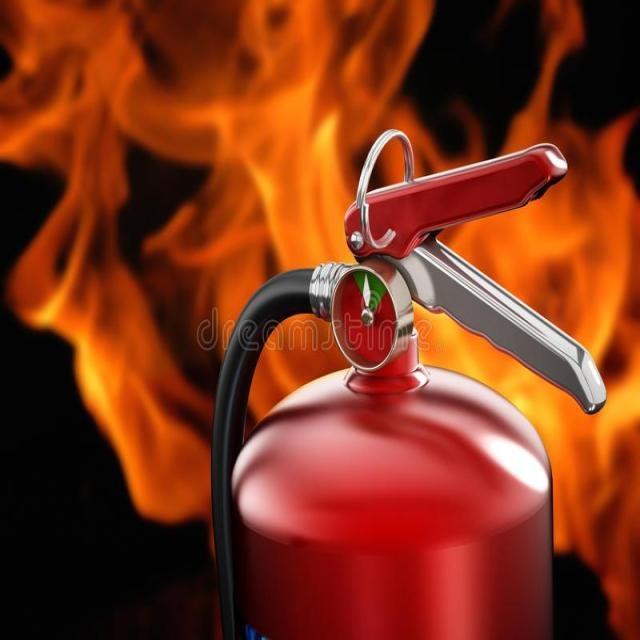fire_extinguisher: (200, 125, 612, 639)
